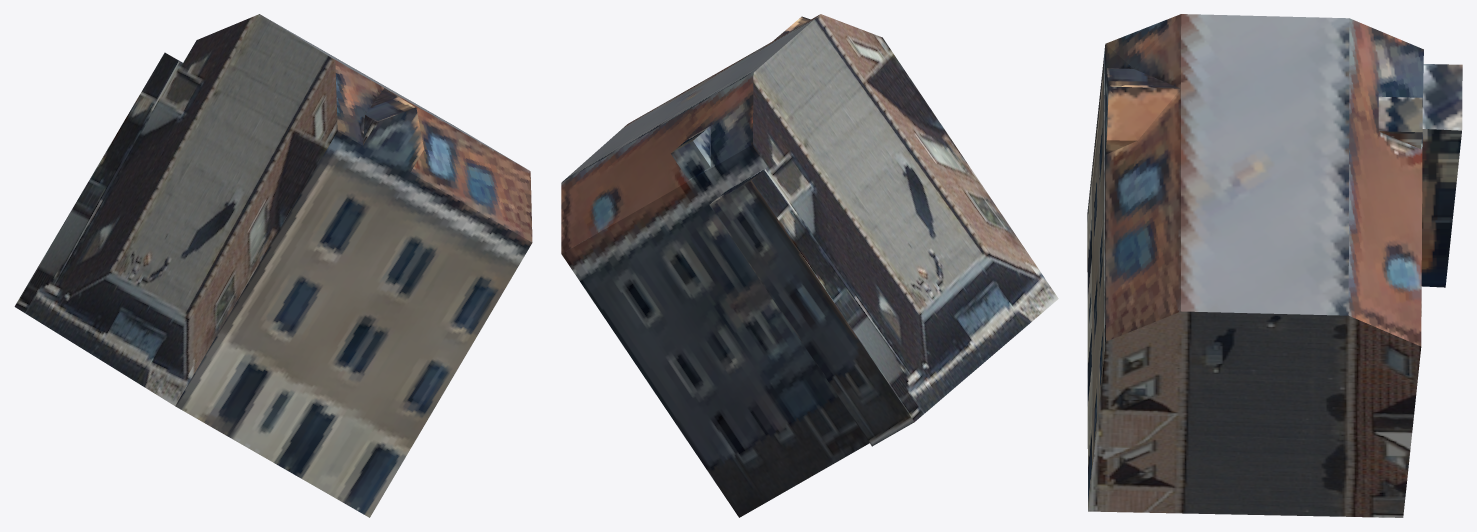
3 renders of one model, left to right at view 1: azimuth 30°, elevation 25°; view 2: azimuth 150°, elevation 25°; view 3: azimuth 270°, elevation 25°, orthographic. The views are drawn at different scales.
Parts seen in each view (by area): view 1: BAG_0599100000688681 (×4); view 2: BAG_0599100000688681 (×4); view 3: BAG_0599100000688681 (×5).
Part boxes in pixels (<box>): BAG_0599100000688681 (×4): <box>14,14,532,517</box>; BAG_0599100000688681 (×4): <box>561,14,1058,517</box>; BAG_0599100000688681 (×5): <box>1087,14,1462,517</box>.
Size of the model in its own units: 15.75 by 16.3 by 10.84.
Materials: 5 (5 with a texture image).
